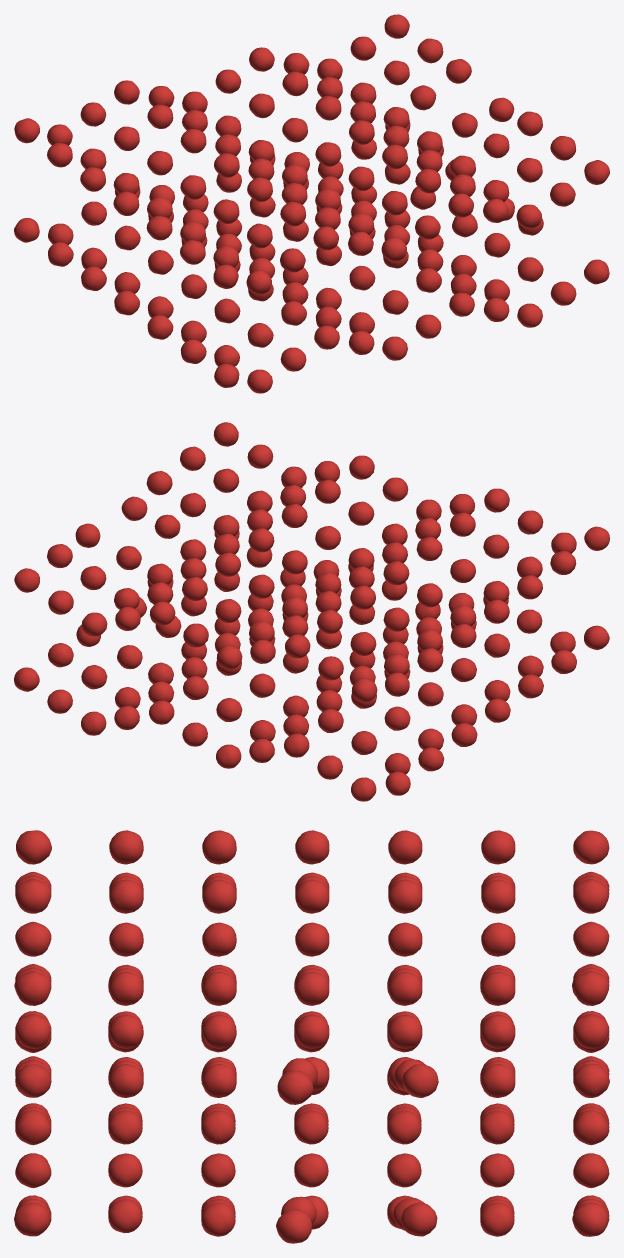
The model's file is 20 Utopia.4f46df0e.glb.
The picture shows the model from 3 angles, top to bottom: view 1: azimuth 30°, elevation 25°; view 2: azimuth 150°, elevation 25°; view 3: azimuth 270°, elevation 25°; orthographic projection. The views are drawn at different scales.
Parts seen in each view (by area): view 1: bola; view 2: bola; view 3: bola.
Boxes of the visible parts, left/top/right/bottom form: bola: left=14, top=14, right=609, bottom=393; bola: left=14, top=422, right=609, bottom=801; bola: left=14, top=830, right=609, bottom=1243.
Size of the model in its own units: 59.59 by 21.56 by 55.82.
